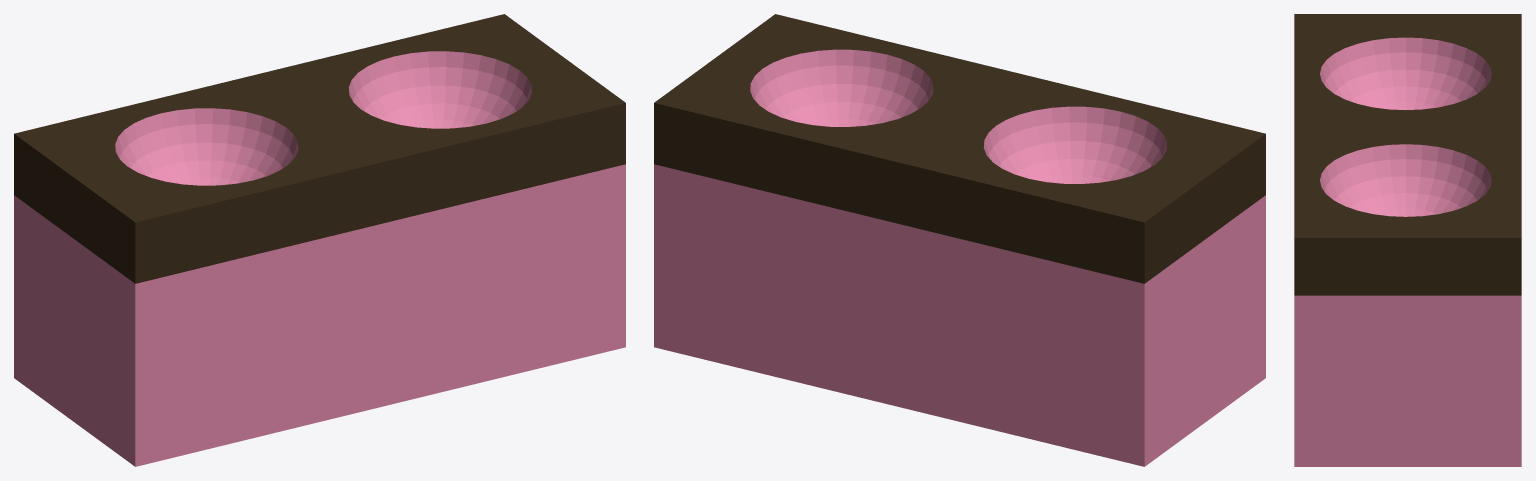
The model's file is Sink.fbx.
3 renders of one model, left to right at view 1: azimuth 30°, elevation 25°; view 2: azimuth 150°, elevation 25°; view 3: azimuth 270°, elevation 25°, orthographic. The views are drawn at different scales.
Visible parts, largest first — view 1: Sink; view 2: Sink; view 3: Sink.
Boxes of the visible parts, x1,y1,x2,y2 form: Sink: (14,14,625,466); Sink: (654,14,1265,466); Sink: (1294,14,1521,466).
Bounding box in the file's own units: 420 × 200 × 180.
